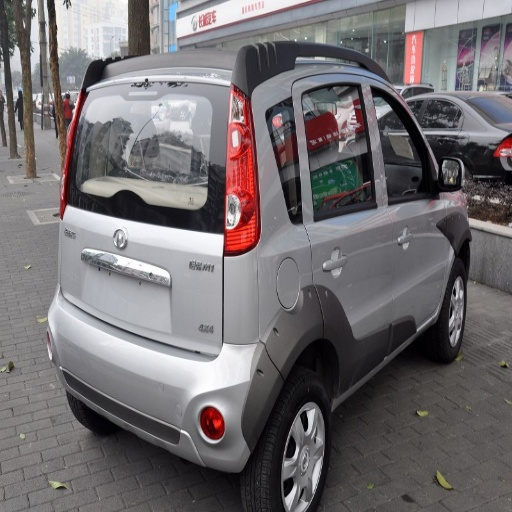back_bumper: (51, 294, 281, 465), (224, 252, 258, 329)
back_right_door: (294, 75, 394, 382)
tailgate: (65, 253, 222, 355)
trunk: (63, 198, 244, 322)
